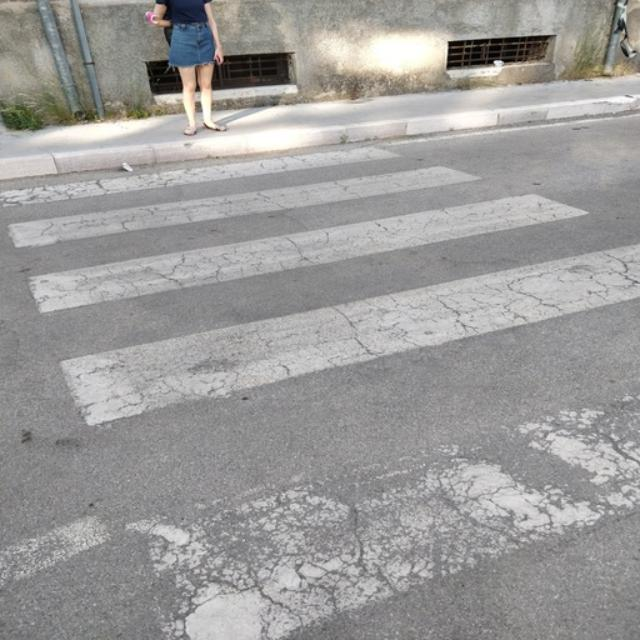sidewalk: (6, 144, 633, 634)
